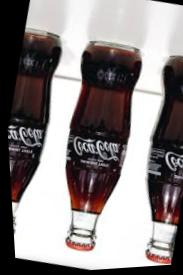glass: (65, 41, 141, 250), (7, 30, 60, 201), (146, 56, 182, 264)
